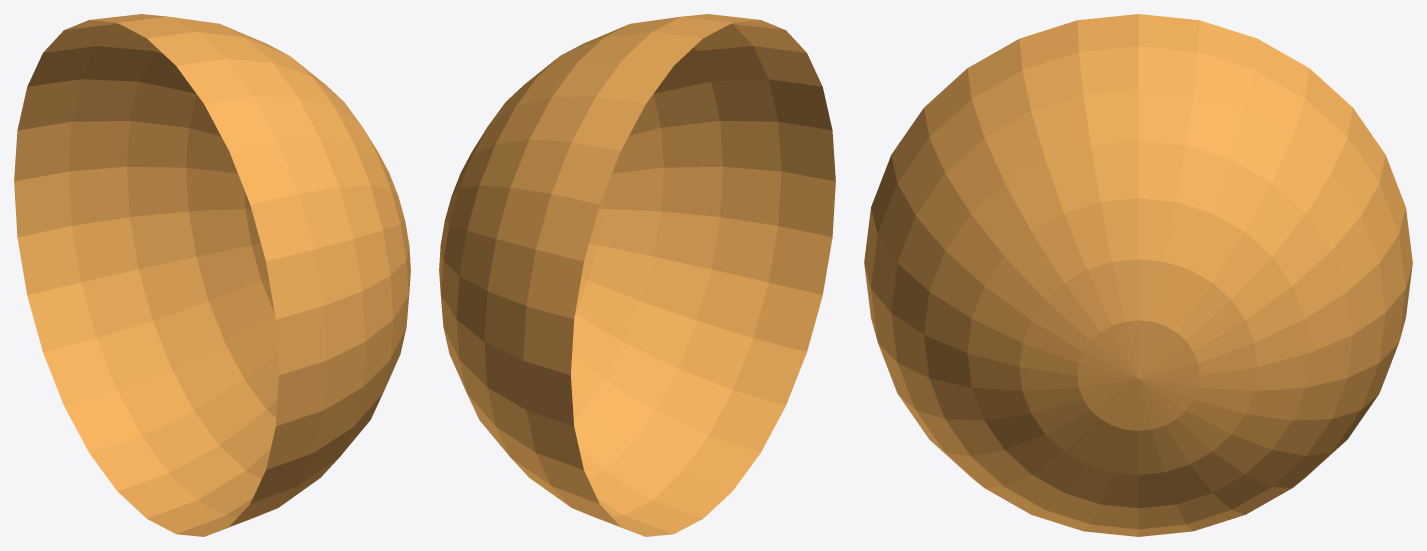
Rendered from chute_canopy.glb.
The picture shows the model from 3 angles, left to right: view 1: azimuth 30°, elevation 25°; view 2: azimuth 150°, elevation 25°; view 3: azimuth 270°, elevation 25°; orthographic projection. The views are drawn at different scales.
Parts seen in each view (by area): view 1: chute_canopy; view 2: chute_canopy; view 3: chute_canopy.
Part boxes in pixels (x1,y1,x2,y2): chute_canopy: (14,14,410,536); chute_canopy: (439,14,835,536); chute_canopy: (864,14,1412,536).
Bounding box in the file's own units: 0.5 × 1 × 1.
